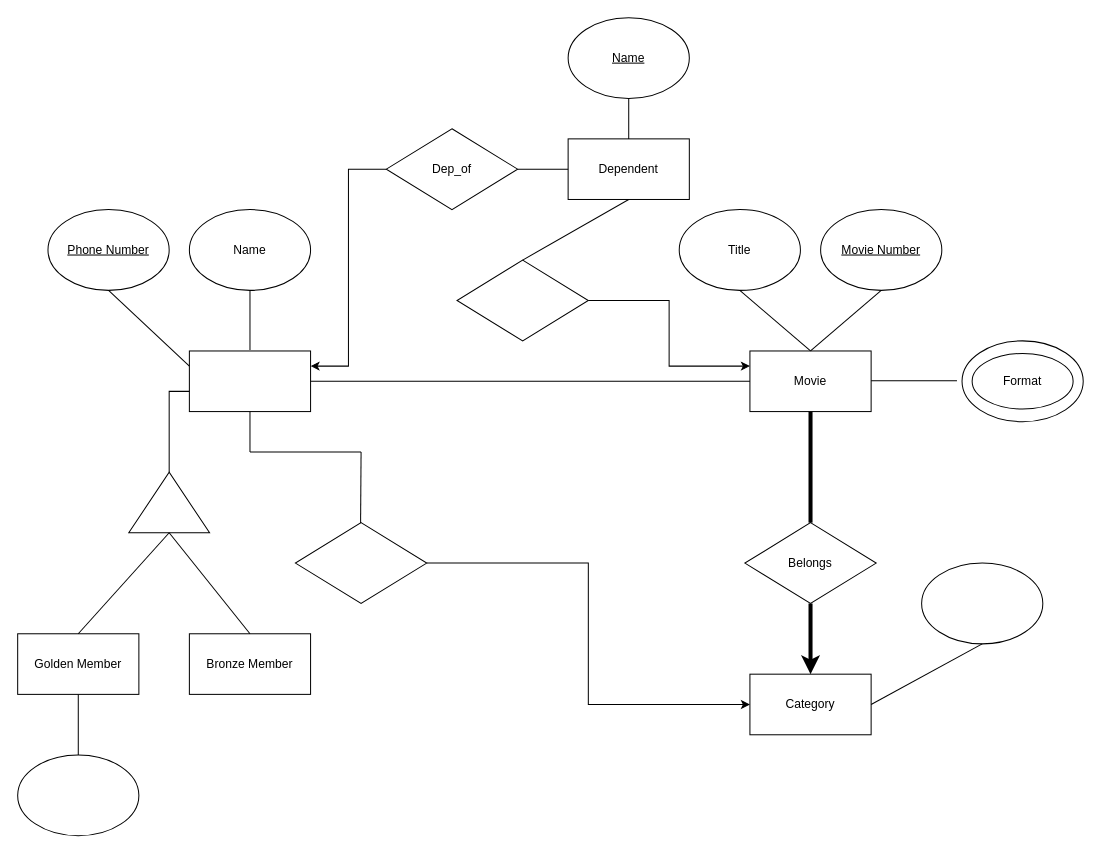
Image size: 1101x853. Some labels were removed from this diagram. Each missing label, with the centre of its shape:
"Category Text" belongs at [982,603].
"Credit Card #" belongs at [78,795].
"D_Rent" belongs at [522,300].
"IsA" belongs at [169,502].
"Member" belongs at [249,381].
"Provide" belongs at [360,562].
